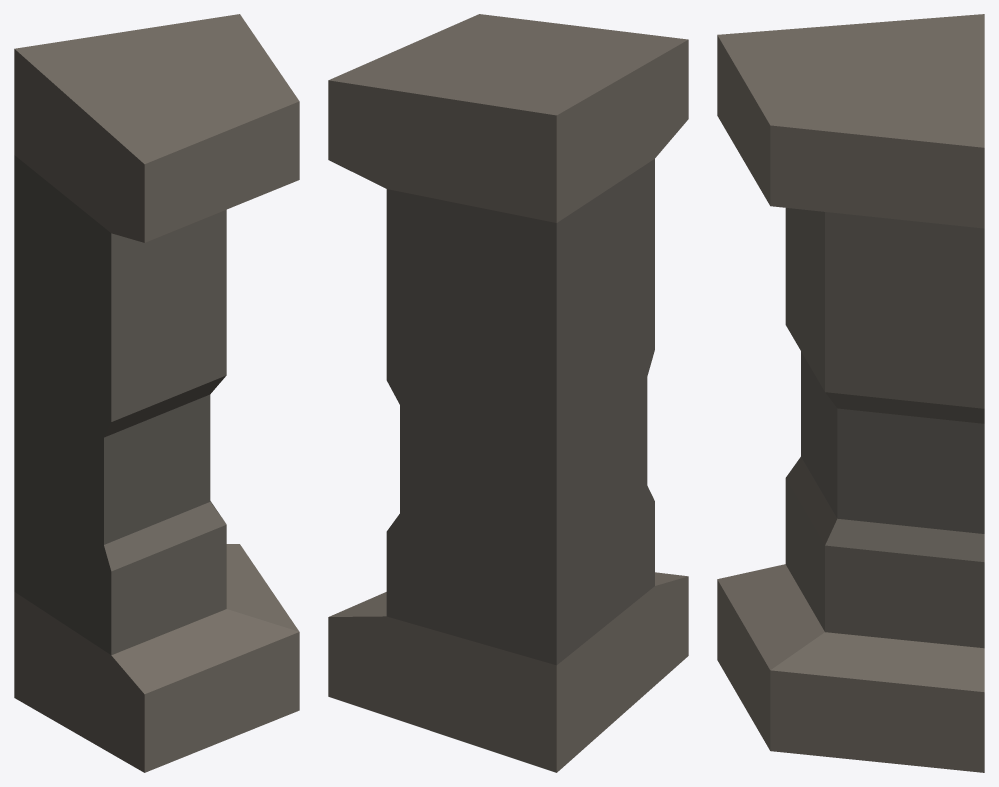
Rendered from SM_Bld_Trim_Corner_01.fbx.
3 renders of one model, left to right at view 1: azimuth 30°, elevation 25°; view 2: azimuth 150°, elevation 25°; view 3: azimuth 270°, elevation 25°, orthographic. The views are drawn at different scales.
Parts seen in each view (by area): view 1: SM_Bld_Trim_Corner_01; view 2: SM_Bld_Trim_Corner_01; view 3: SM_Bld_Trim_Corner_01.
Part boxes in pixels (x1,y1,x2,y2): SM_Bld_Trim_Corner_01: (14,14,299,772); SM_Bld_Trim_Corner_01: (328,14,688,772); SM_Bld_Trim_Corner_01: (717,14,984,772).
Size of the model in its own units: 36.39 by 100 by 36.39.
